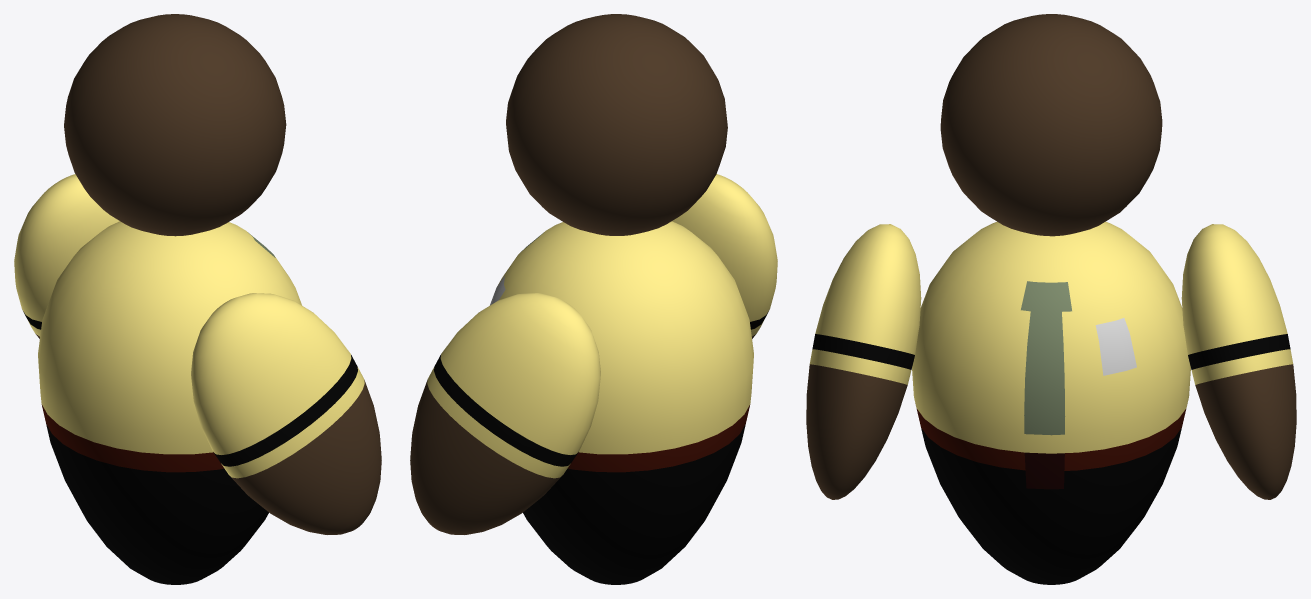
The model's file is student 3.fbx.
3 views of the same model, side by side, from view 1: azimuth 30°, elevation 25°; view 2: azimuth 150°, elevation 25°; view 3: azimuth 270°, elevation 25° (orthographic).
Parts seen in each view (by area): view 1: Sphere.005, Sphere.004, Sphere.006, Sphere.007; view 2: Sphere.005, Sphere.004, Sphere.007, Sphere.006; view 3: Sphere.005, Sphere.004, Sphere.006, Sphere.007.
Part boxes in pixels (x1=…): Sphere.005: x1=38, y1=221, x2=301, y2=584; Sphere.004: x1=64, y1=14, x2=286, y2=236; Sphere.006: x1=191, y1=293, x2=381, y2=534; Sphere.007: x1=14, y1=174, x2=119, y2=338; Sphere.005: x1=490, y1=221, x2=753, y2=584; Sphere.004: x1=506, y1=14, x2=727, y2=235; Sphere.007: x1=410, y1=293, x2=600, y2=534; Sphere.006: x1=672, y1=174, x2=777, y2=338; Sphere.005: x1=912, y1=221, x2=1190, y2=584; Sphere.004: x1=940, y1=14, x2=1162, y2=236; Sphere.006: x1=806, y1=224, x2=921, y2=499; Sphere.007: x1=1181, y1=224, x2=1296, y2=499.
Size of the model in its own units: 92.54 by 208 by 166.
